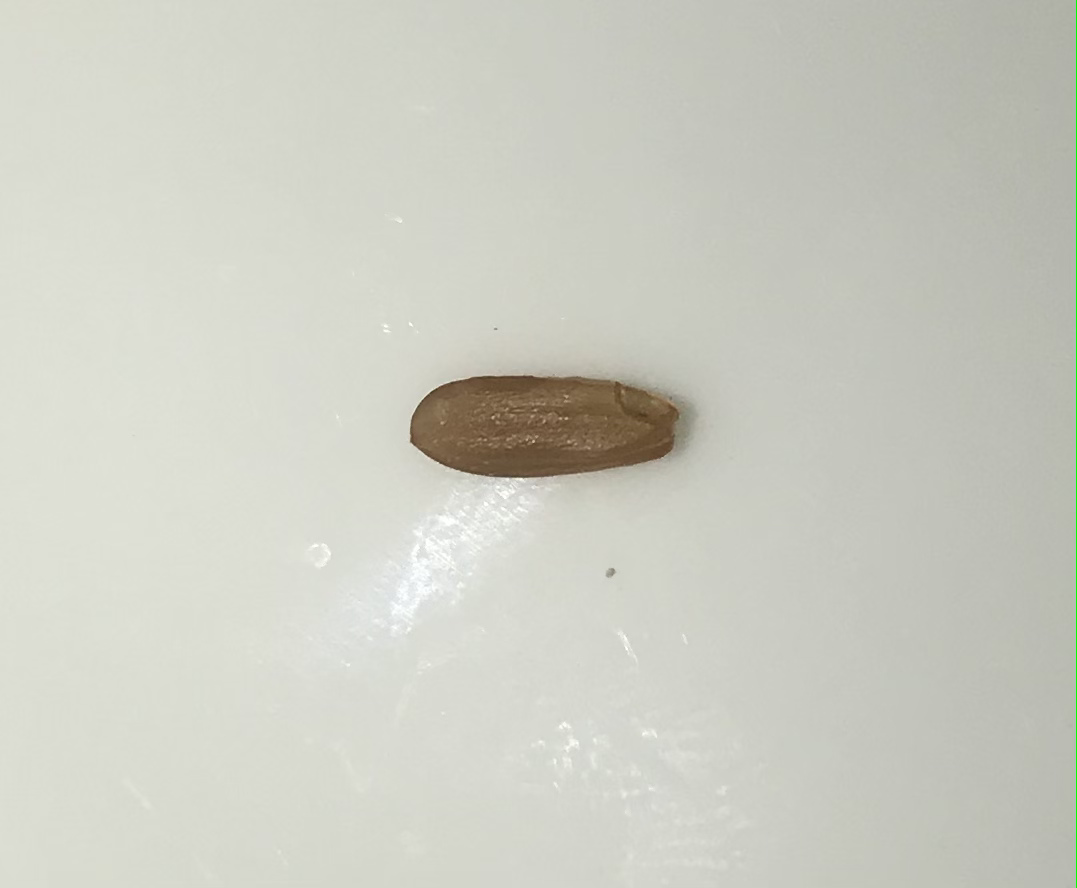Gao Lut Dien Bien: (402, 363, 702, 500)
